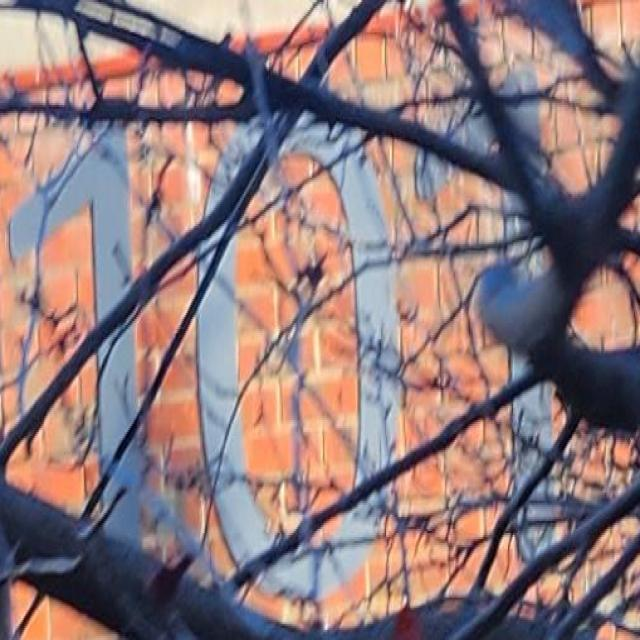character: (192, 98, 404, 606), (408, 65, 564, 575), (2, 120, 155, 608)
